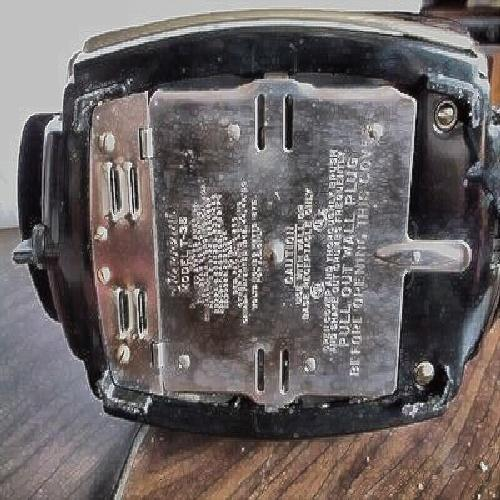toaster: (40, 27, 485, 428)
